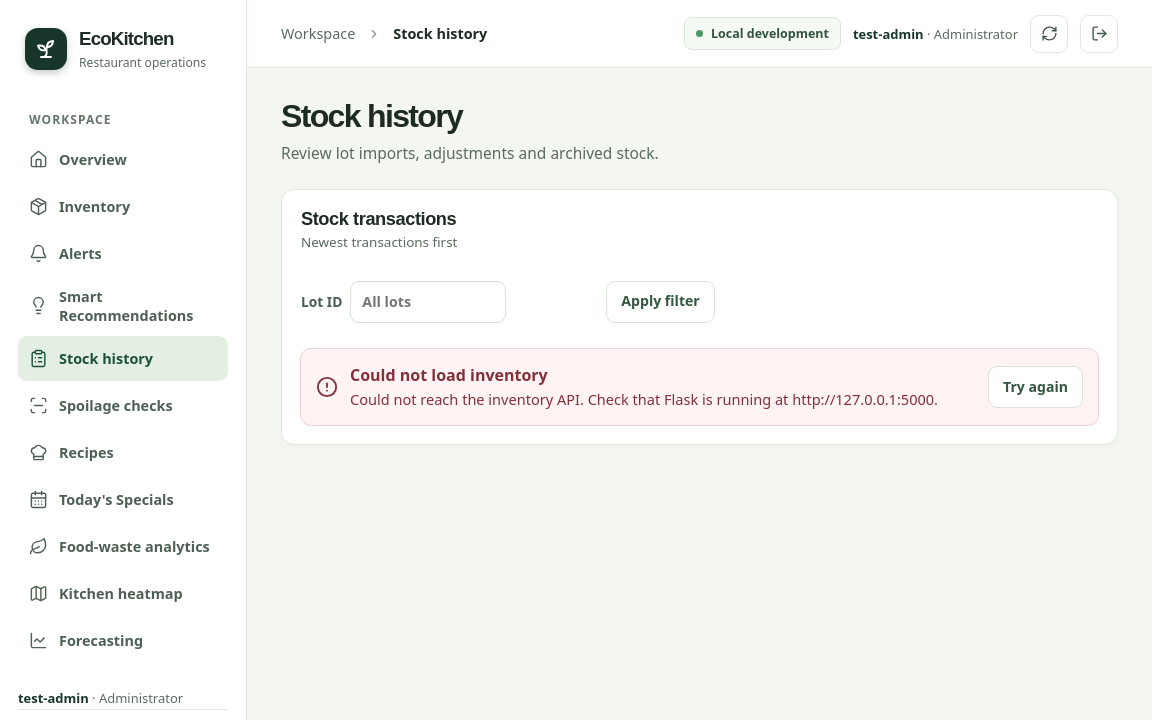
Test: EcoKitchen dashboard › retries failed reads, renders history and shows missing demand results honestly
Expected: the message shows "Could not reach the inventory API", top-left (350, 389), bottom-right (938, 409)
Click the button "Try again". click: (1036, 387)
box: top-left (988, 366), bottom-right (1083, 408)
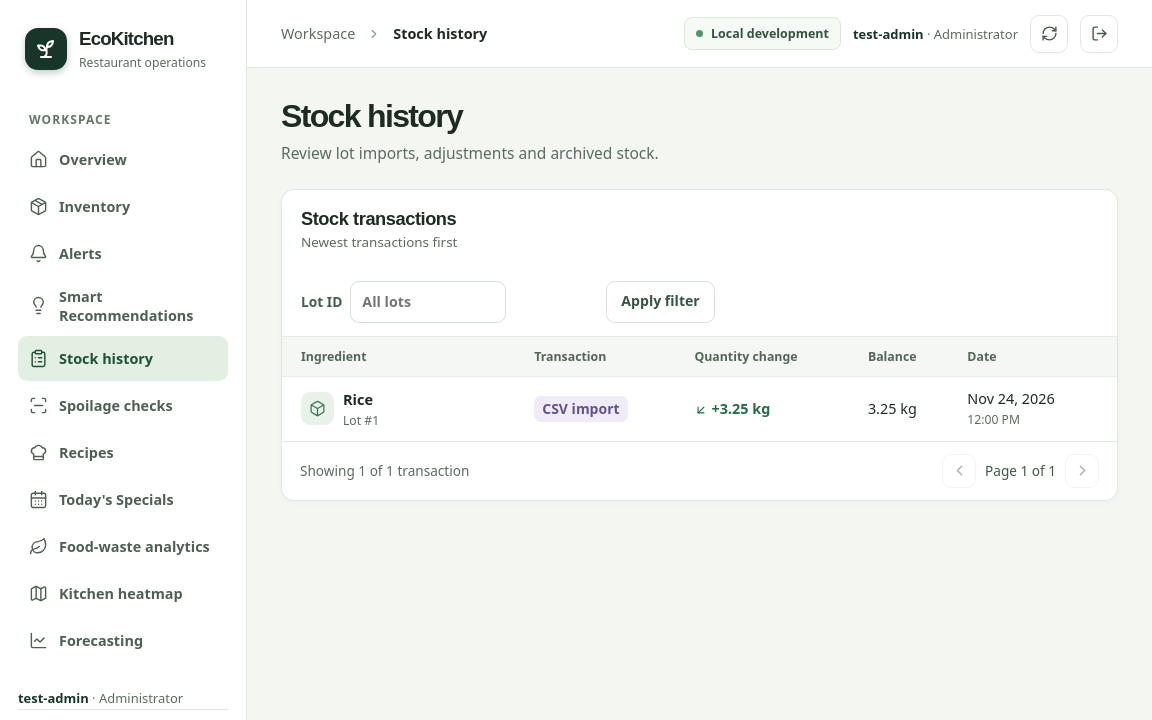
Result: the text "CSV import" is shown at top-left (534, 396), bottom-right (628, 422)
Click the link "Forecasting". click: (86, 640)
box: top-left (29, 630), bottom-right (143, 650)
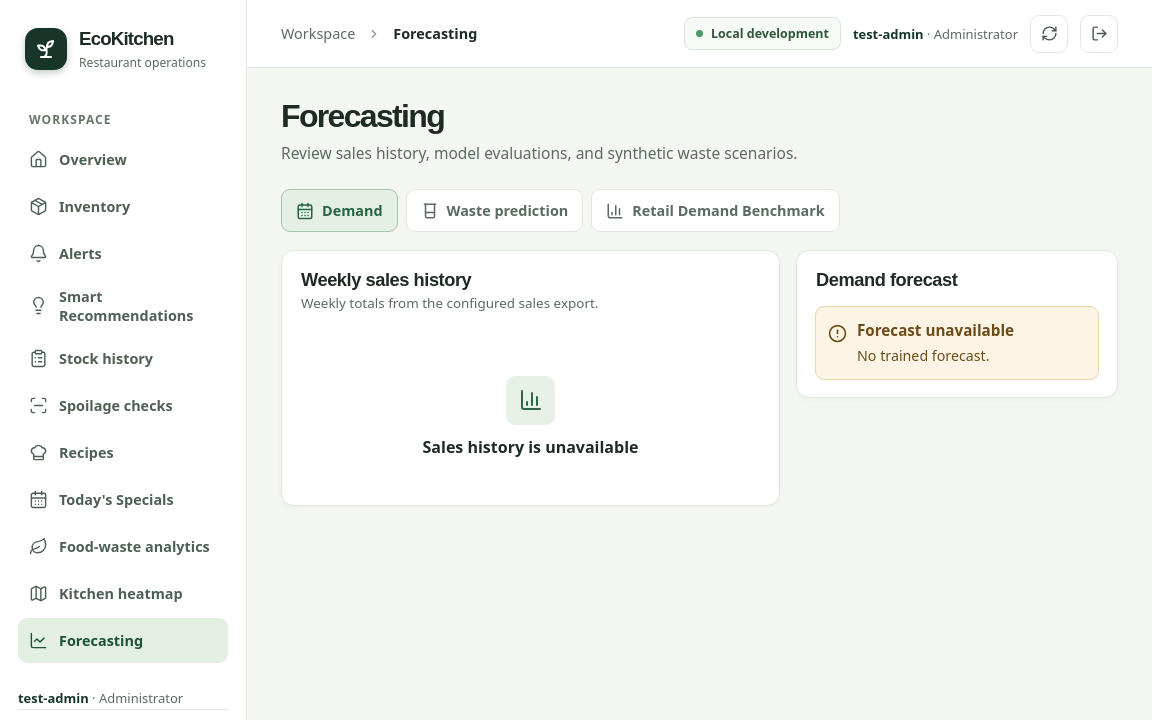
Result: the heading "Forecast unavailable" is shown at top-left (857, 319), bottom-right (1014, 342)
Result: the table is gone
